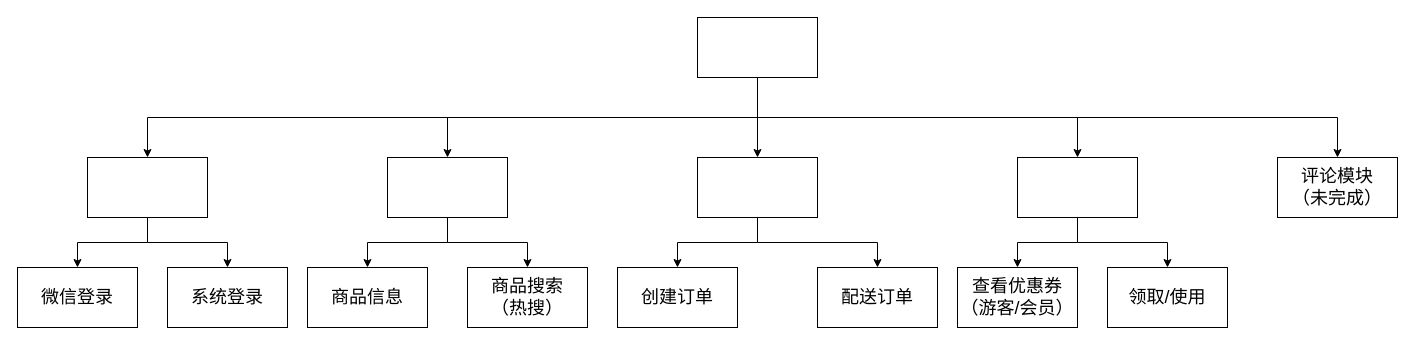
The diagram is 1415 pixels wide and 345 high, and some of its shapes have lost their labels. Each missing label, with the centre of its shape:
"EOrder" goes at pixel 757 47.
"优惠券模块" goes at pixel 1077 187.
"商品模块" goes at pixel 447 187.
"登录模块" goes at pixel 147 187.
"订单模块" goes at pixel 757 187.
